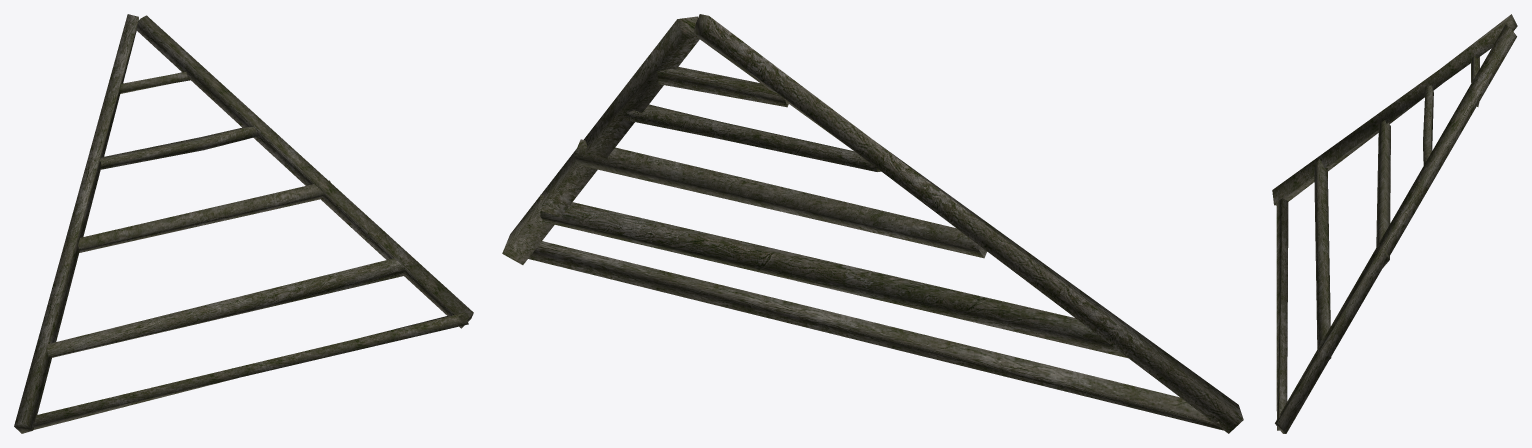
The model's file is TI_Roof_Frame_06.fbx.
3 views of the same model, side by side, from view 1: azimuth 30°, elevation 25°; view 2: azimuth 150°, elevation 25°; view 3: azimuth 270°, elevation 25° (orthographic). The views are drawn at different scales.
Parts seen in each view (by area): view 1: TI_Roof_Frame_06; view 2: TI_Roof_Frame_06; view 3: TI_Roof_Frame_06.
Part boxes in pixels (left/top/right/bottom): TI_Roof_Frame_06: left=14, top=14, right=473, bottom=433; TI_Roof_Frame_06: left=502, top=14, right=1243, bottom=433; TI_Roof_Frame_06: left=1272, top=14, right=1517, bottom=433.
Bounding box in the file's own units: 5.37 × 3.24 × 2.36.
